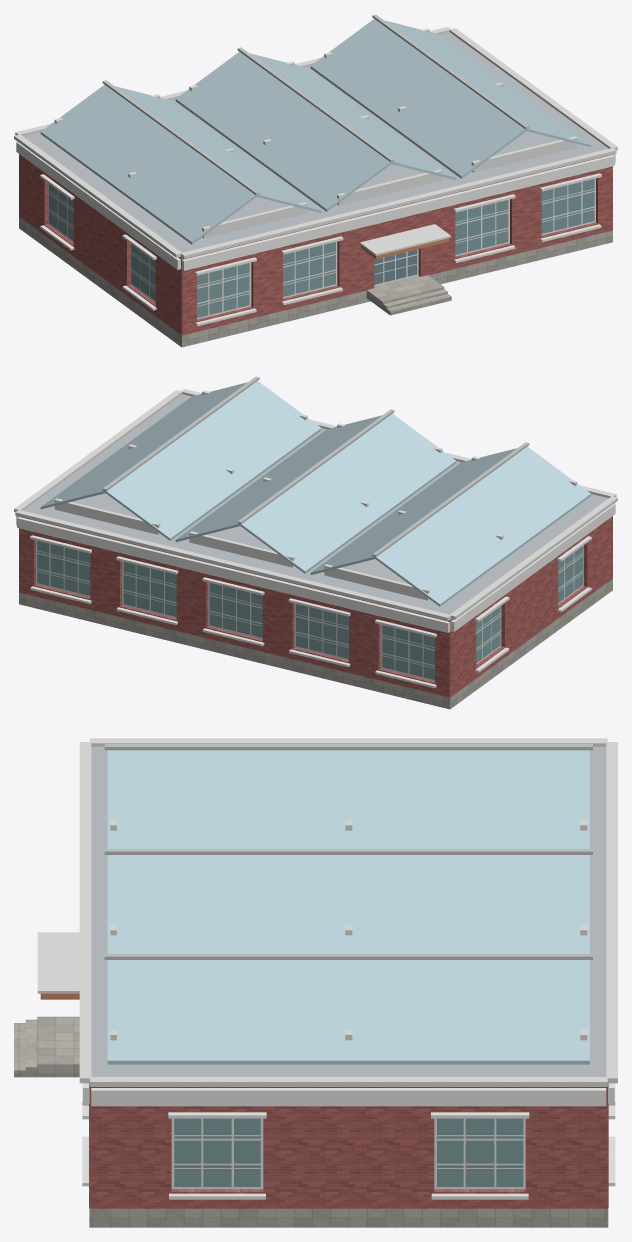
3 views of the same model, one above another, from view 1: azimuth 30°, elevation 25°; view 2: azimuth 150°, elevation 25°; view 3: azimuth 270°, elevation 25° (orthographic). The views are drawn at different scales.
Parts seen in each view (by area): view 1: flower__greenhouseroof, flower__redbrick, flower__cap, flower__metalroof, flower__tealglass, flower__band, flower__stone, flower__frame, flower__sill, flower__steel, flower__stair-front, flower__glass (+1 smaller); view 2: flower__greenhouseroof, flower__redbrick, flower__tealglass, flower__metalroof, flower__cap, flower__stone, flower__band, flower__frame, flower__sill, flower__steel; view 3: flower__greenhouseroof, flower__redbrick, flower__cap, flower__metalroof, flower__tealglass, flower__stone, flower__band, flower__steel, flower__sill, flower__frame, flower__stair-front, flower__threshold-front.
Part boxes in pixels (box(x1,y1,x2,y2)): flower__greenhouseroof: box(40, 19, 591, 244); flower__redbrick: box(19, 154, 612, 335); flower__cap: box(14, 27, 617, 258); flower__metalroof: box(23, 32, 608, 258); flower__tealglass: box(49, 179, 594, 317); flower__band: box(16, 141, 615, 270); flower__stone: box(19, 217, 612, 347); flower__frame: box(48, 178, 595, 319); flower__sill: box(40, 173, 601, 326); flower__steel: box(102, 14, 529, 195); flower__stair-front: box(379, 284, 451, 315); flower__glass: box(374, 249, 417, 284); flower__greenhouseroof: box(40, 381, 591, 606); flower__redbrick: box(19, 516, 612, 697); flower__tealglass: box(37, 541, 582, 679); flower__metalroof: box(23, 394, 608, 620); flower__cap: box(14, 389, 617, 620); flower__stone: box(19, 579, 612, 709); flower__band: box(16, 503, 615, 632); flower__frame: box(36, 540, 583, 681); flower__sill: box(30, 535, 591, 688); flower__steel: box(102, 376, 529, 557); flower__greenhouseroof: box(107, 750, 589, 1064); flower__redbrick: box(89, 1083, 608, 1208); flower__cap: box(37, 738, 617, 1086); flower__metalroof: box(89, 746, 608, 1086); flower__tealglass: box(174, 1118, 523, 1186); flower__stone: box(89, 1208, 608, 1227); flower__band: box(83, 1083, 614, 1106); flower__steel: box(104, 744, 592, 959); flower__sill: box(82, 1083, 615, 1199); flower__frame: box(171, 1118, 525, 1189); flower__stair-front: box(14, 1016, 48, 1077); flower__threshold-front: box(48, 1016, 79, 1077).
Bounding box in the file's own units: 26.64 × 7.58 × 19.79.
12 materials, 2 textured.
